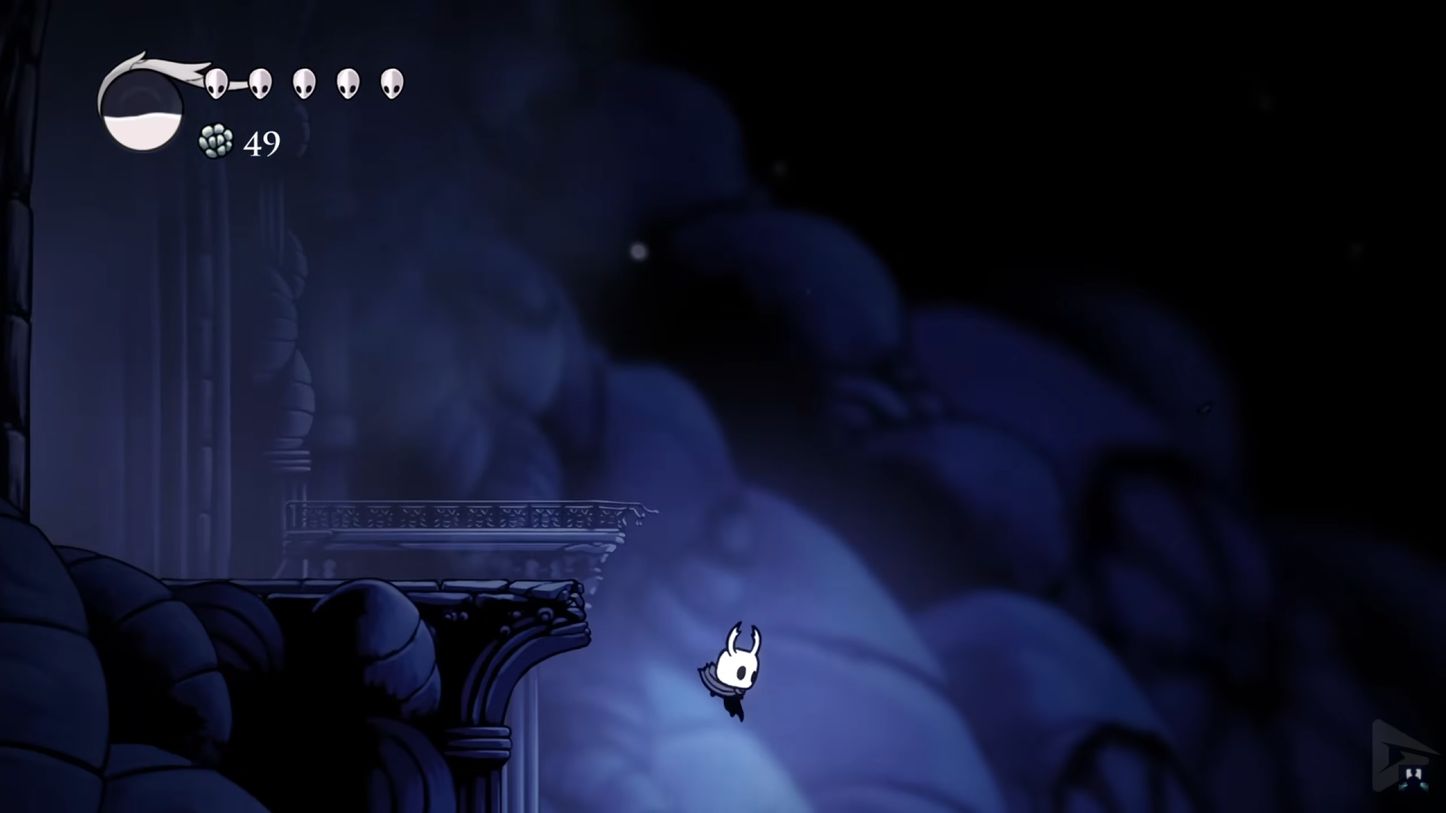HK: (702, 620, 766, 723)
